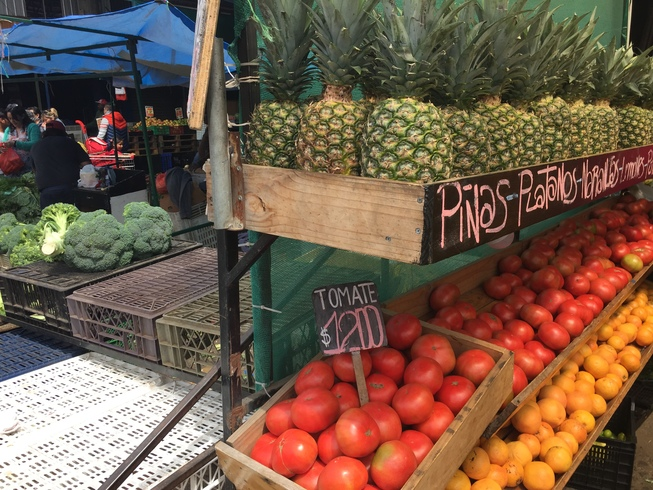precio: (306, 277, 393, 360)
